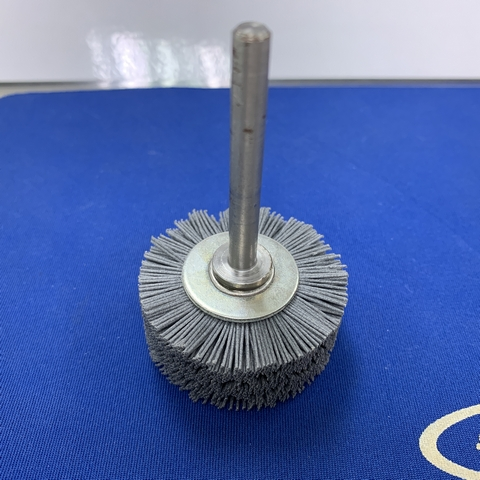Wheel Brush: (132, 20, 366, 418), (174, 17, 375, 418), (114, 194, 383, 417)
